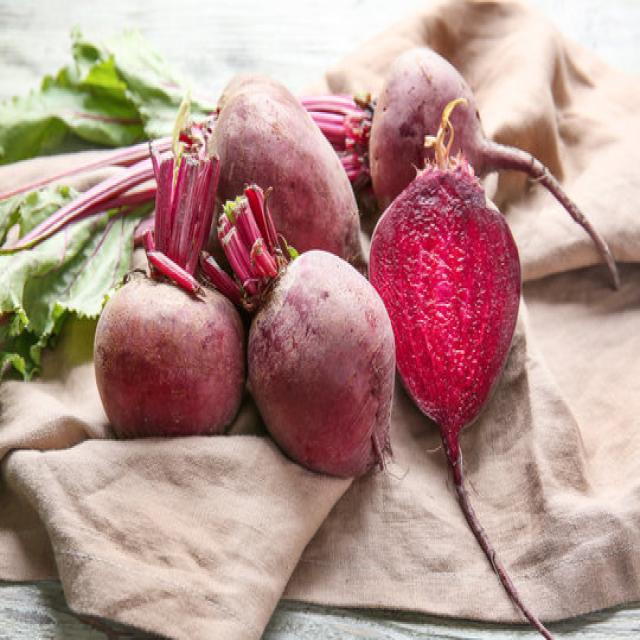Beetroot: (366, 100, 557, 638), (367, 45, 620, 292), (199, 181, 403, 482), (92, 142, 246, 438), (205, 73, 366, 274)
